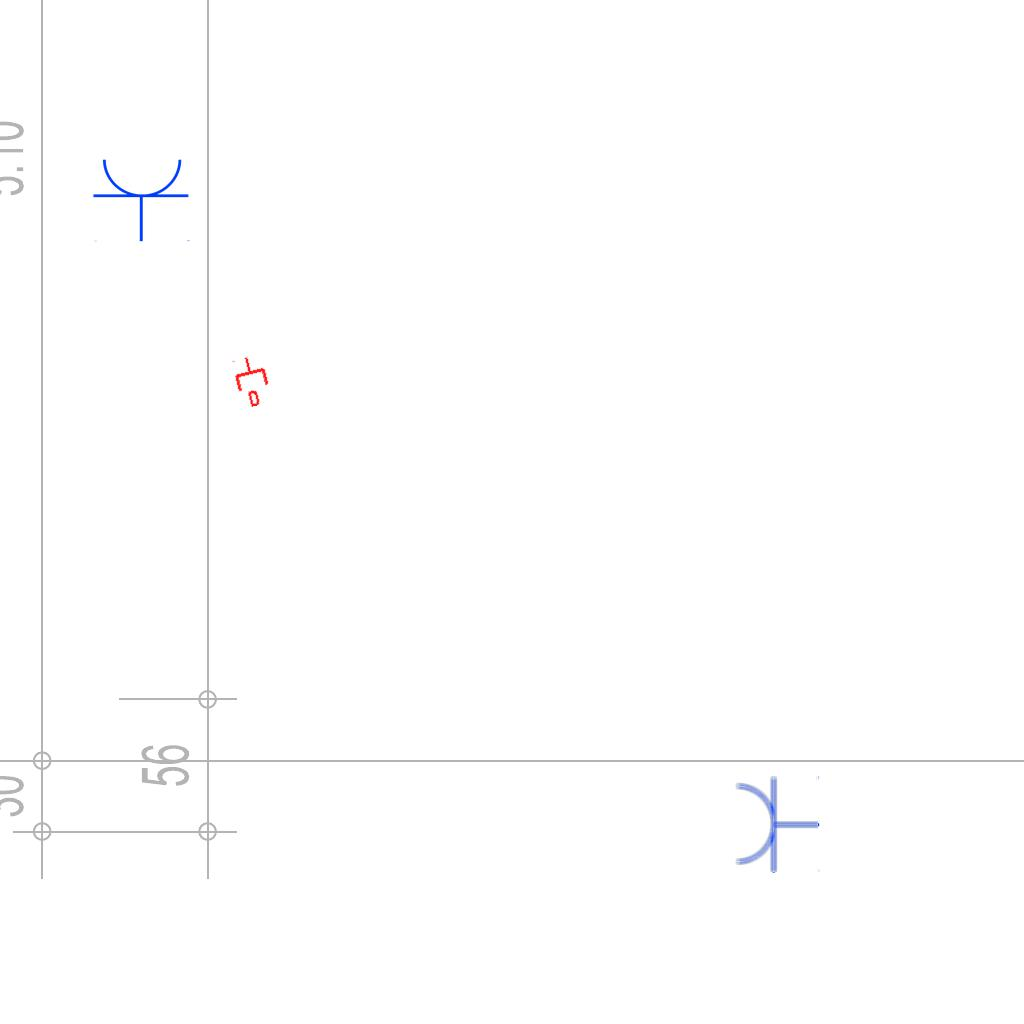Datenanschluss_einfach: (229, 352, 275, 410)
Schukosteckdose_einfach: (92, 155, 192, 242), (733, 774, 820, 874)
